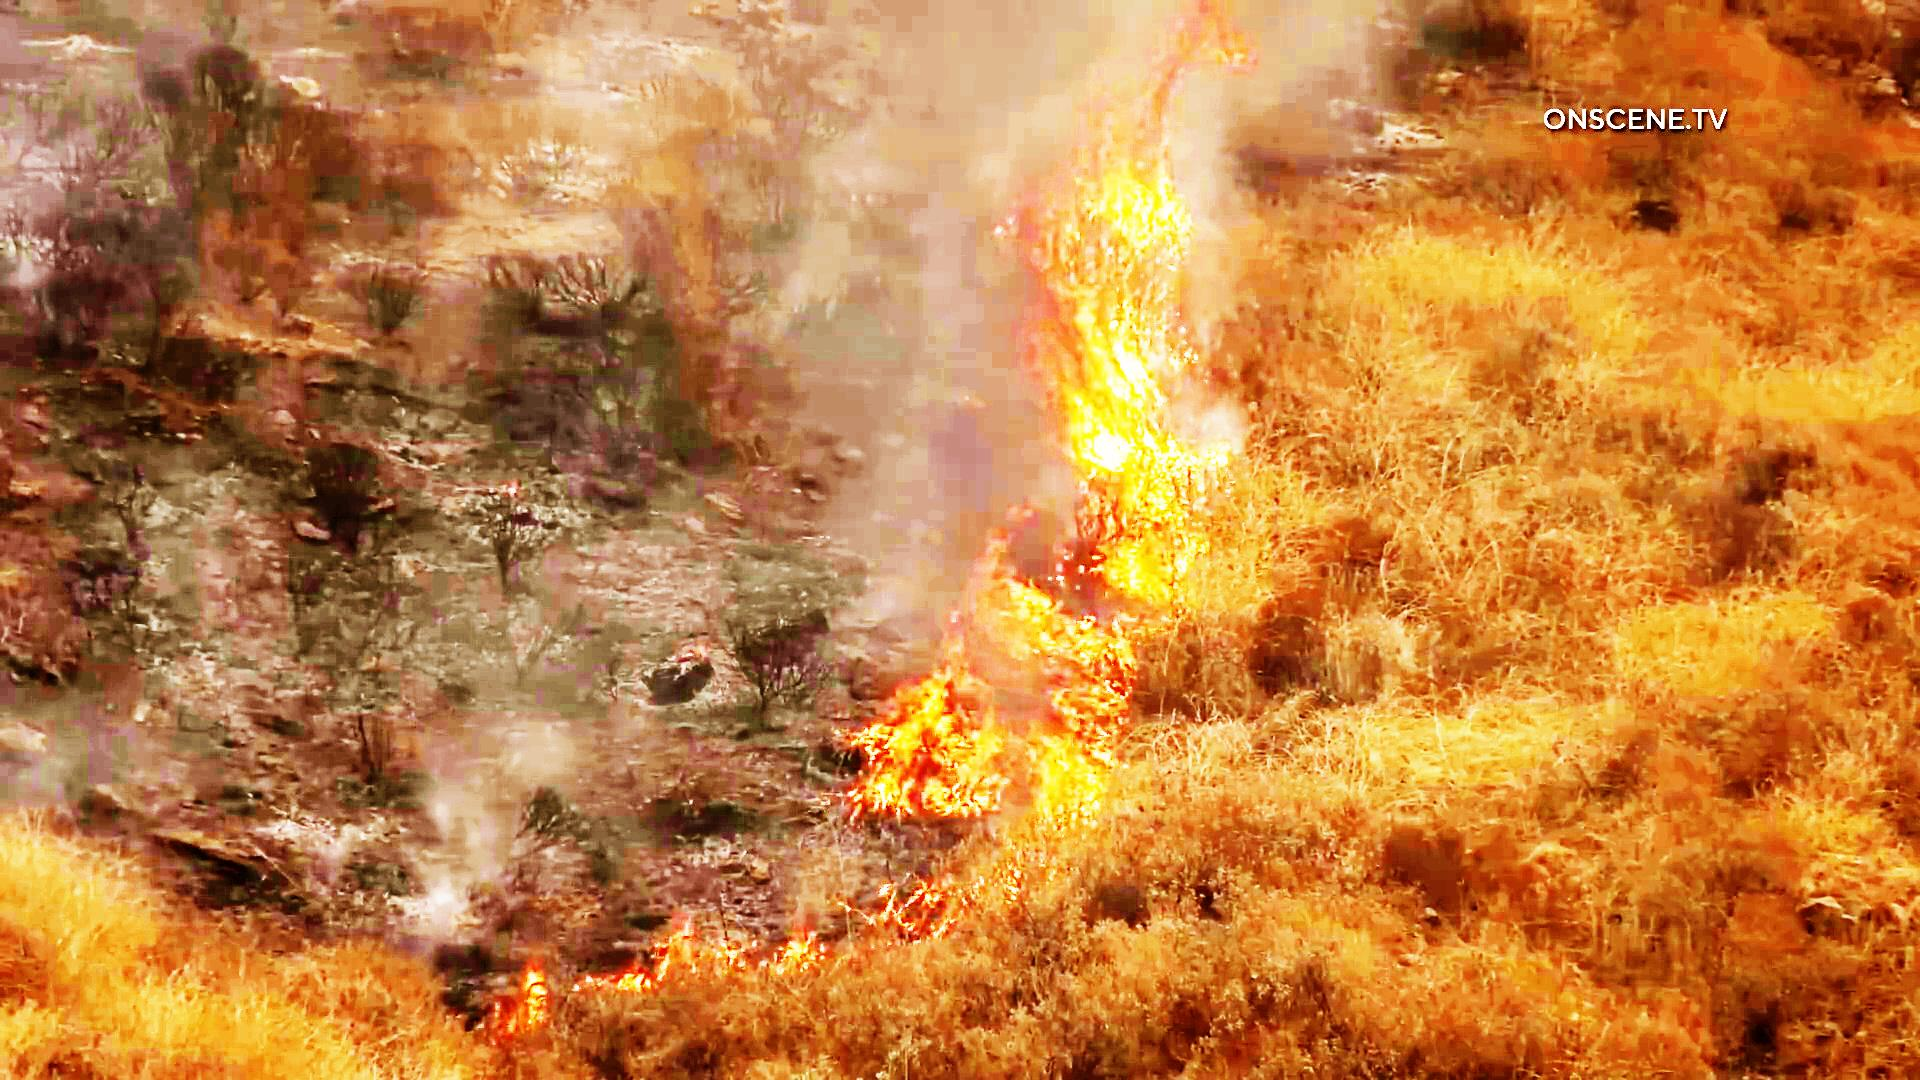fire: (1076, 125, 1291, 622), (903, 480, 1129, 851)
